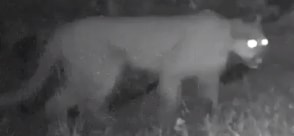Mountain Lion: (11, 5, 272, 130)
